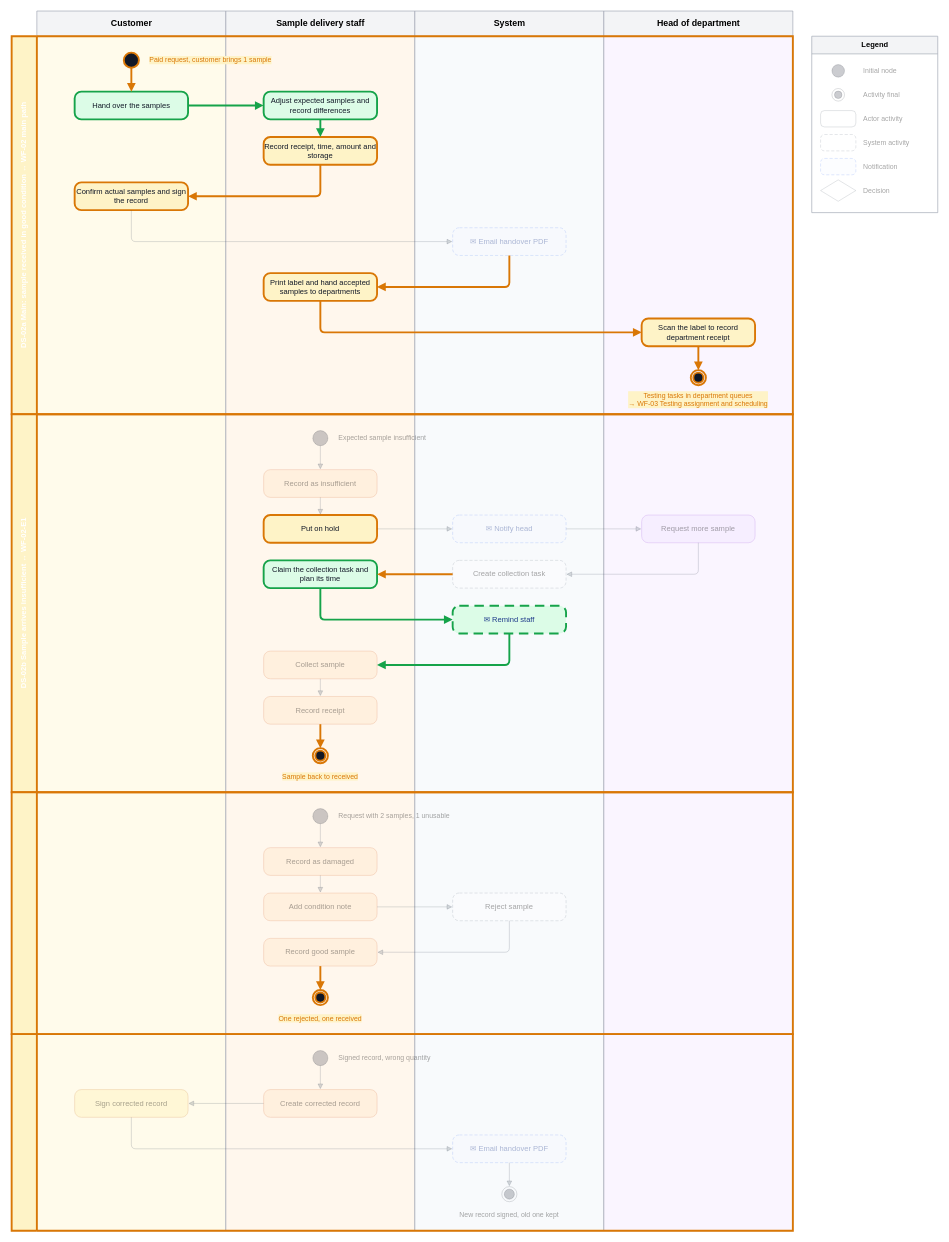
This 949x1242 diagram has some shape labels left out. The shapes that lost their labels are listed below. From the top down, each one's centre as x and y in pixels, then its label:
At pixel 401 913: "DS-02c One of two samples unusable ↔ WF-02 unusable sample".
At pixel 401 1132: "DS-02d Handover record has wrong quantity ↔ WF-02-E2".
